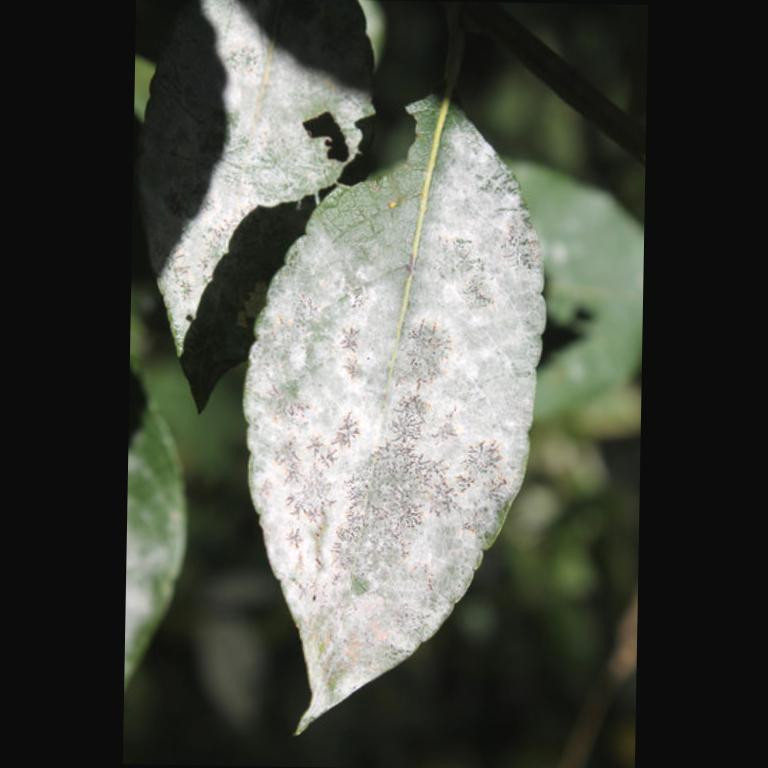powdery-mildew: (292, 252, 475, 584)
